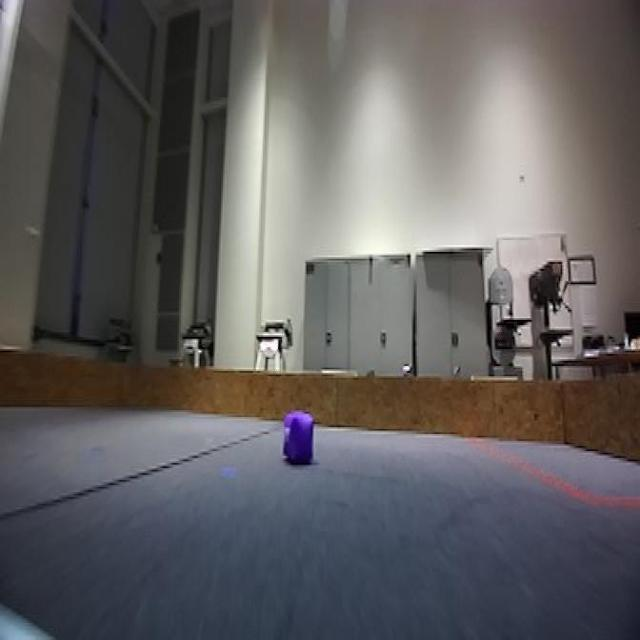frc_cube: (282, 410, 318, 472)
